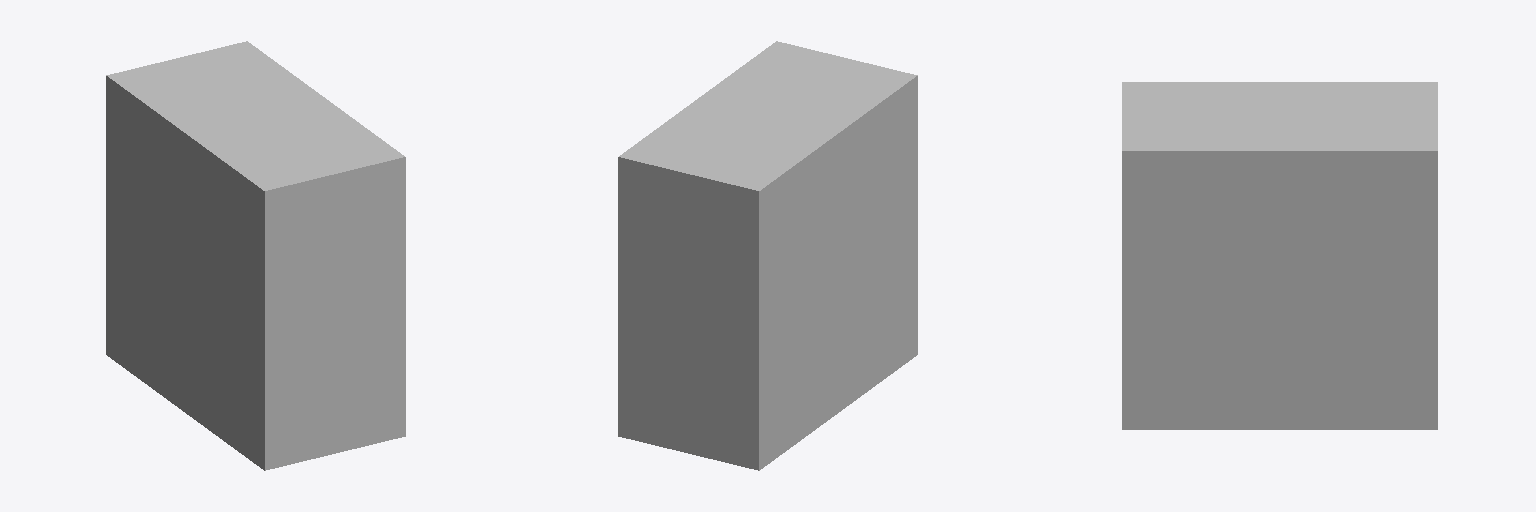
The model's file is mask.obj.
3 renders of one model, left to right at view 1: azimuth 30°, elevation 25°; view 2: azimuth 150°, elevation 25°; view 3: azimuth 270°, elevation 25°, orthographic.
Visible parts, largest first — view 1: Mask; view 2: Mask; view 3: Mask.
Boxes of the visible parts, box(x1,y1,x2,y2) form: Mask: box(106, 41, 405, 470); Mask: box(618, 41, 917, 470); Mask: box(1122, 82, 1437, 429).
Bounding box in the file's own units: 1.06 × 2 × 2.05.